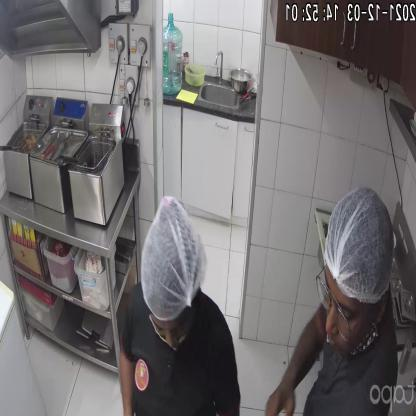no_apron: (120, 292, 226, 416), (299, 327, 398, 415)
